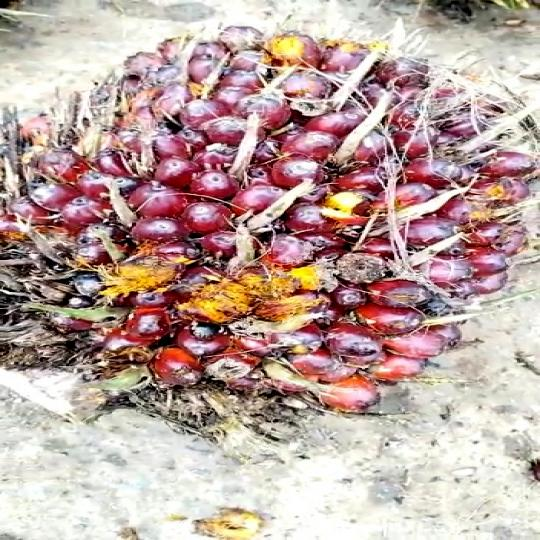masak: (0, 22, 540, 444)
